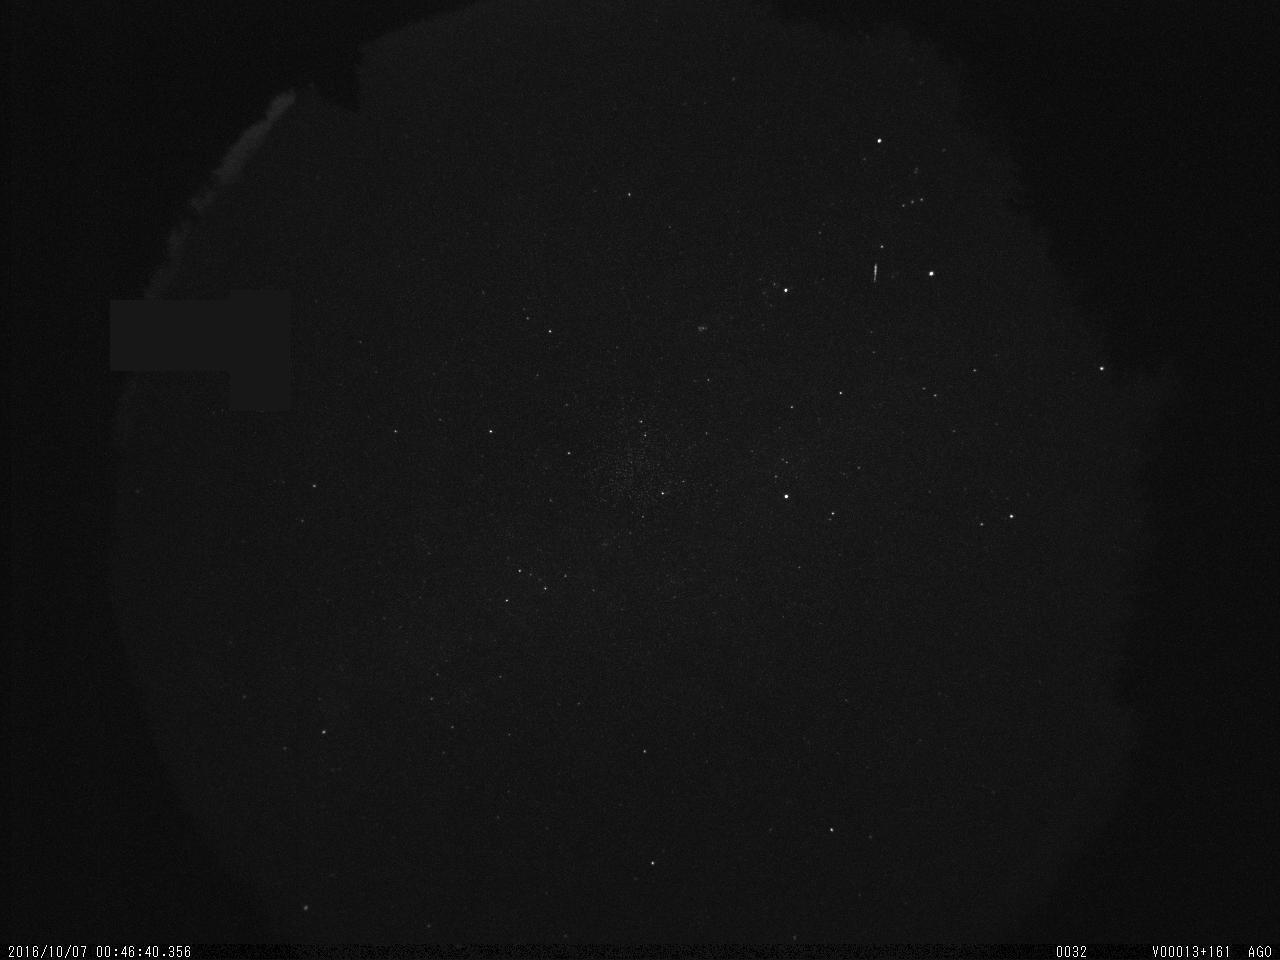Meteor: (868, 256, 886, 292)
